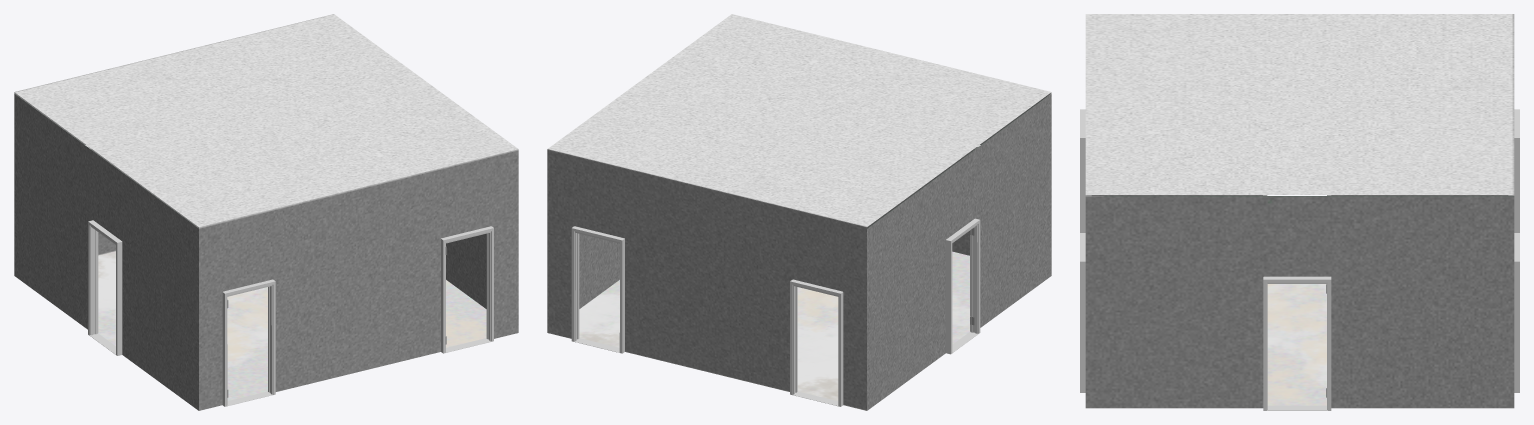
Rendered from Room07.fbx.
3 views of the same model, side by side, from view 1: azimuth 30°, elevation 25°; view 2: azimuth 150°, elevation 25°; view 3: azimuth 270°, elevation 25° (orthographic). The views are drawn at different scales.
Visible parts, largest first — view 1: pCube45, polySurface36 (×2), polySurface37; view 2: pCube45, polySurface36, polySurface38, polySurface33; view 3: pCube45, polySurface33 (×2), polySurface37, polySurface38, polySurface36.
Part boxes in pixels (box(x1,y1,x2,y2)): pCube45: box(14, 14, 518, 410); polySurface36 (×2): box(88, 220, 275, 406); polySurface37: box(441, 226, 493, 353); pCube45: box(547, 14, 1051, 410); polySurface36: box(945, 218, 980, 354); polySurface38: box(571, 226, 624, 353); polySurface33: box(790, 279, 843, 406); pCube45: box(1085, 14, 1514, 408); polySurface33 (×2): box(1263, 109, 1519, 410); polySurface37: box(1080, 233, 1085, 392); polySurface38: box(1514, 233, 1519, 392); polySurface36: box(1080, 109, 1091, 232).
Bounding box in the file's own units: 667 × 355 × 664.
Materials: 3 (1 with a texture image).
